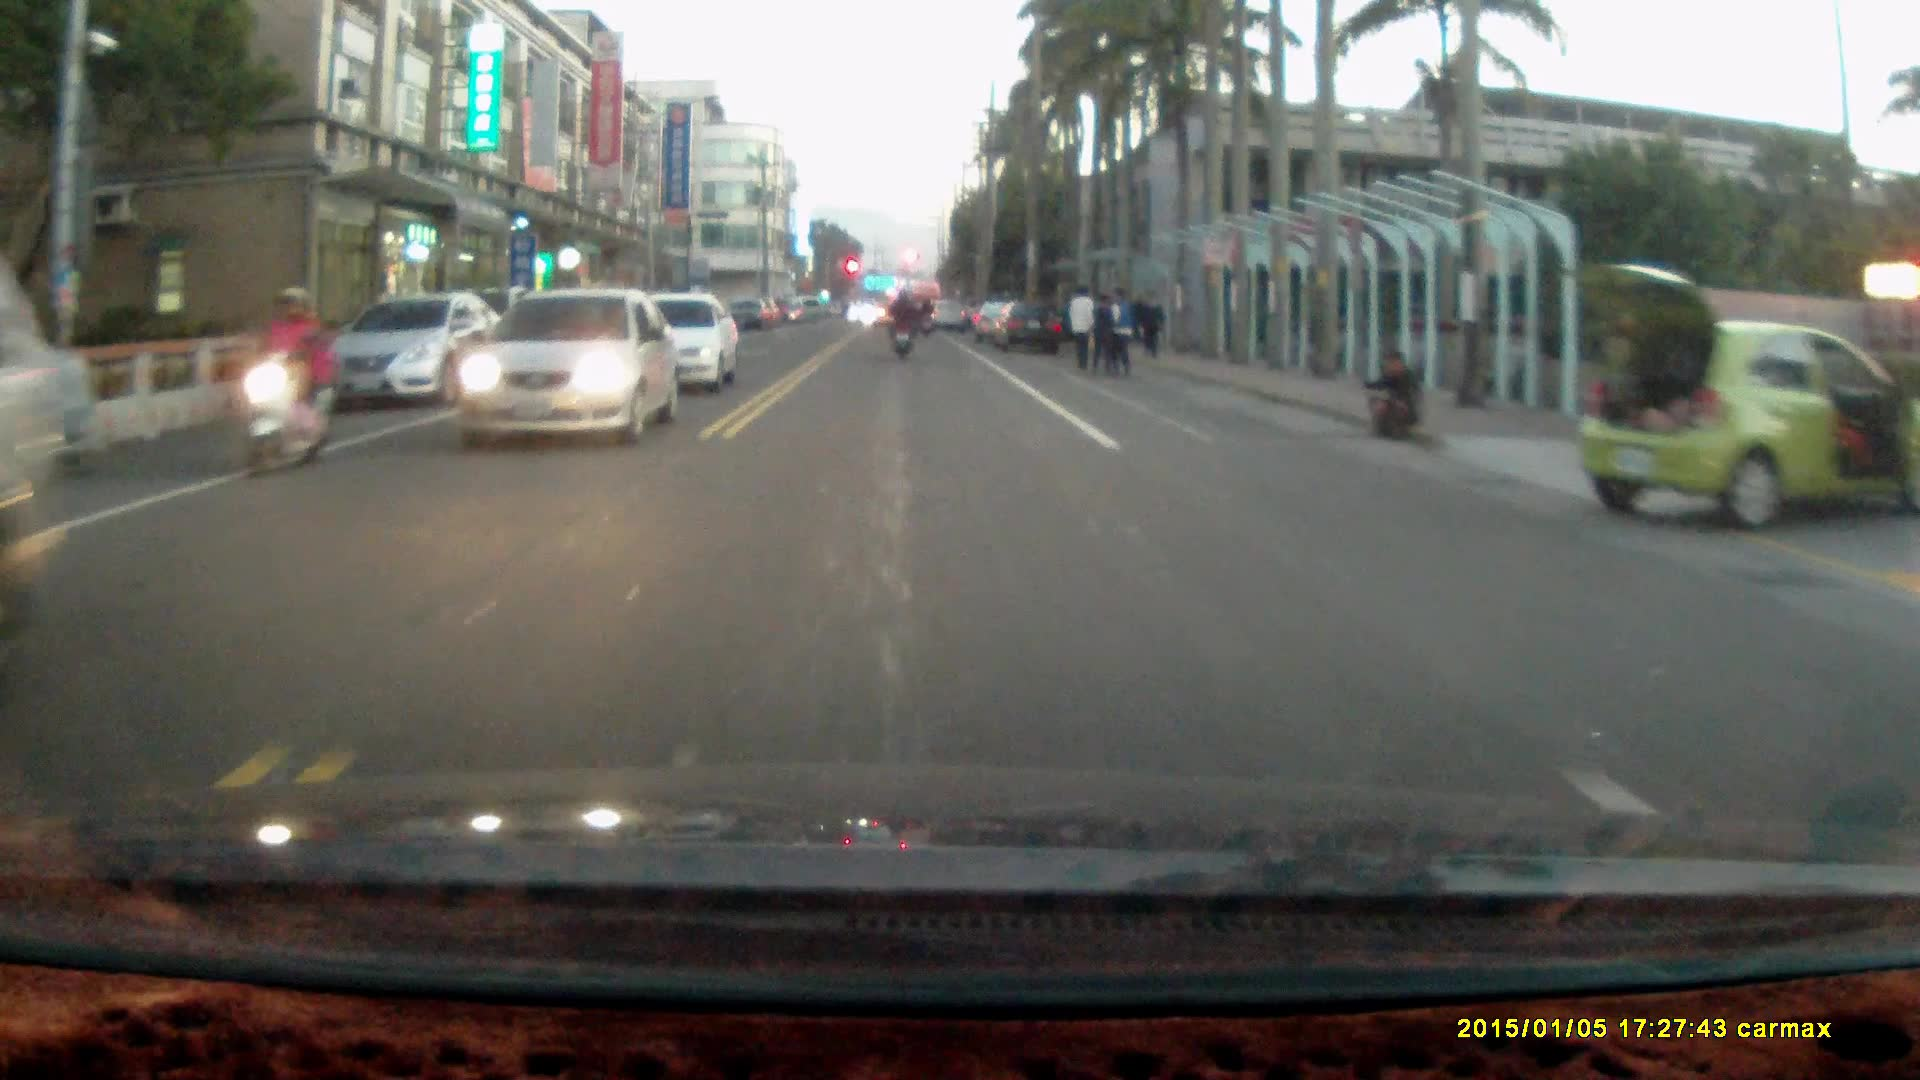pedestrian: (1361, 346, 1425, 440), (1098, 282, 1138, 378), (1068, 279, 1098, 373), (1089, 291, 1118, 379), (1137, 288, 1167, 357)
rider: (241, 283, 341, 478), (883, 286, 917, 362)
vehicle: (1571, 261, 1903, 537), (451, 283, 682, 445), (328, 293, 502, 414), (634, 293, 741, 396), (991, 300, 1068, 353)
